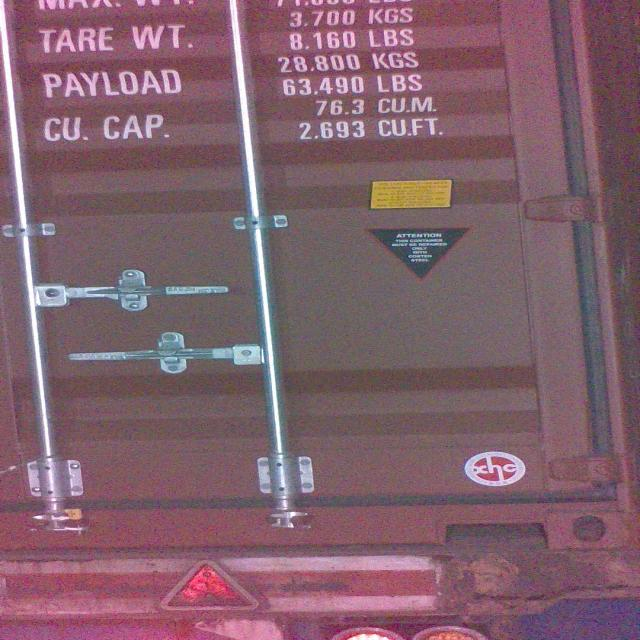seal: (65, 508, 97, 540)
